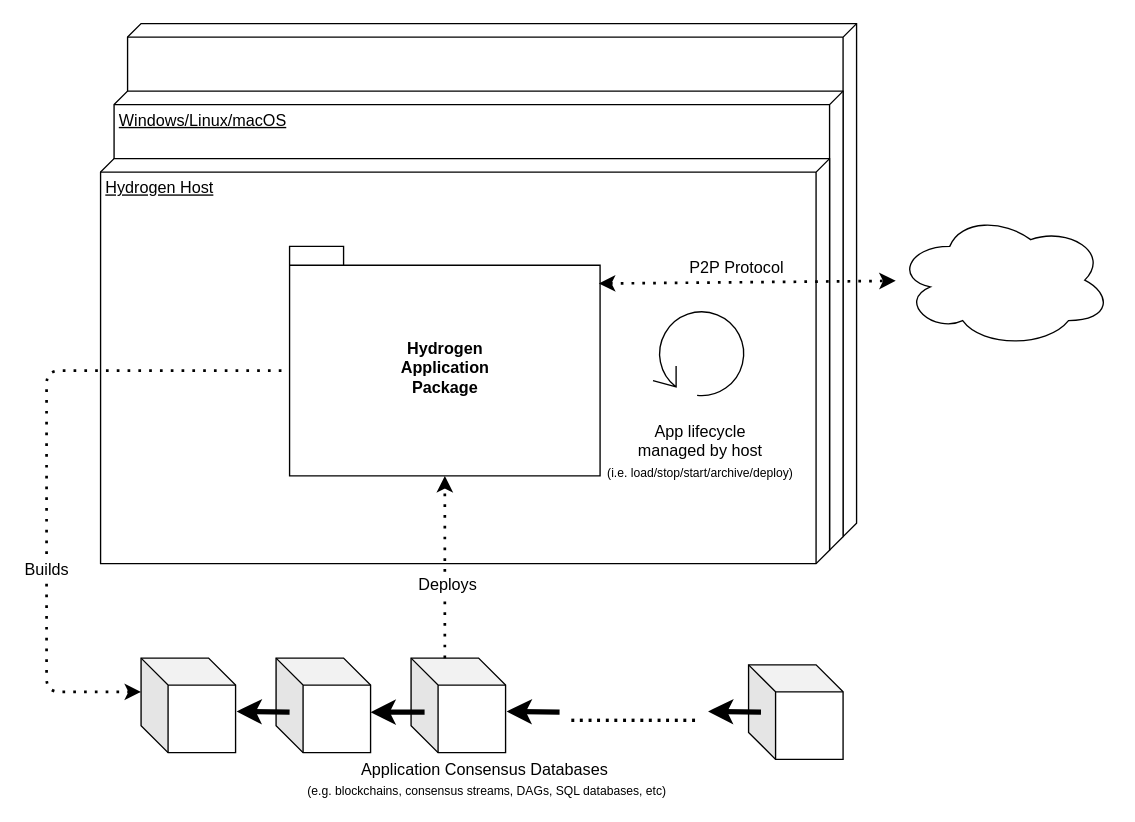
The diagram is 1135 pixels wide and 822 high, and some of its shapes have lost their labels. Here are the shapes that lost their labels. From the top down, the box of each, then its label:
(126, 22, 857, 537): User Machine
(894, 211, 1112, 348): Internet
